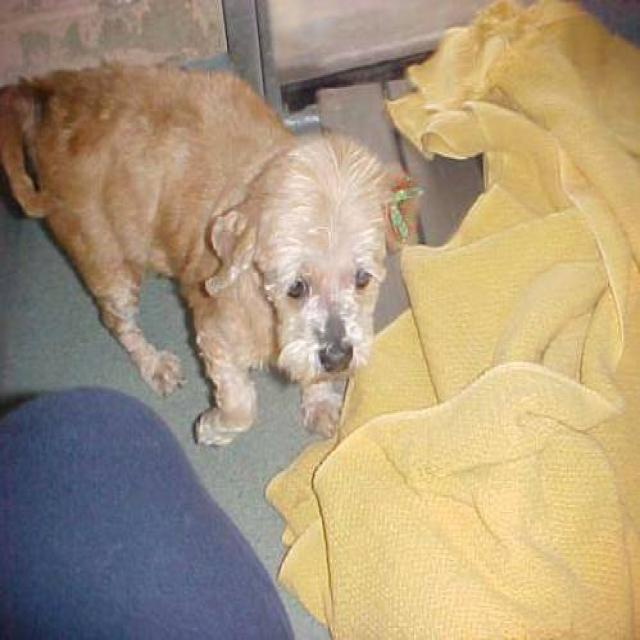dog: (0, 58, 419, 447)
